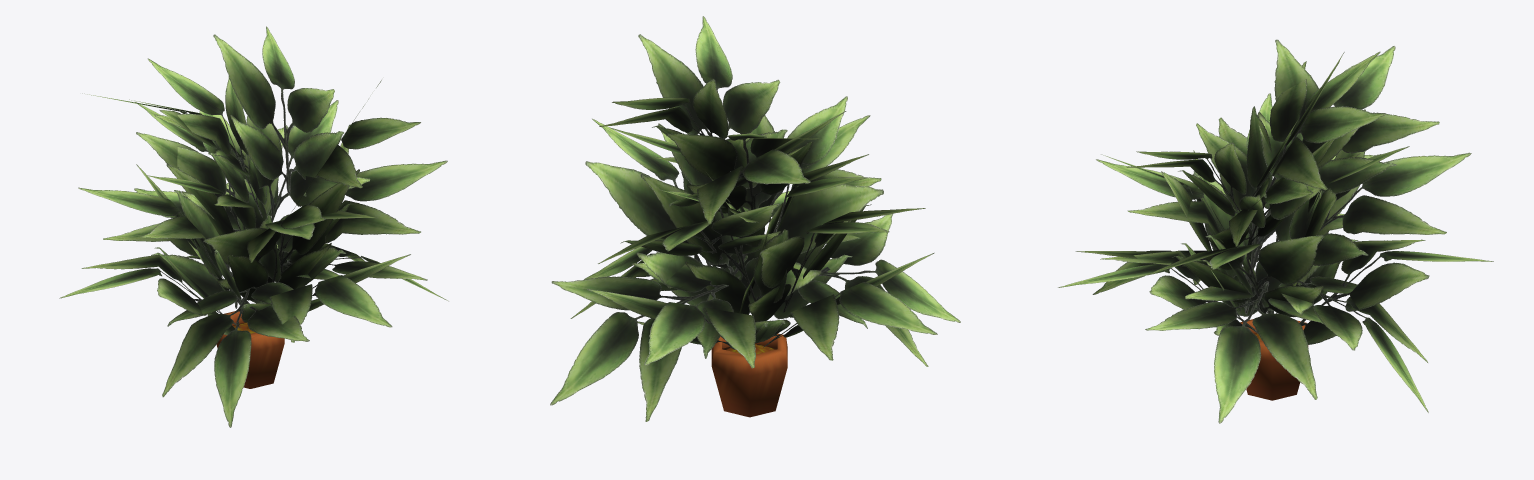
Rendered from plant_pot_plain.DAE.
3 renders of one model, left to right at view 1: azimuth 30°, elevation 25°; view 2: azimuth 150°, elevation 25°; view 3: azimuth 270°, elevation 25°, orthographic. The views are drawn at different scales.
Parts seen in each view (by area): view 1: Plane01; view 2: Plane01; view 3: Plane01.
Part boxes in pixels (x1=…): Plane01: x1=59, y1=26, x2=448, y2=427; Plane01: x1=550, y1=16, x2=960, y2=421; Plane01: x1=1058, y1=39, x2=1493, y2=423.
Bounding box in the file's own units: 1.35 × 1.12 × 1.4.
